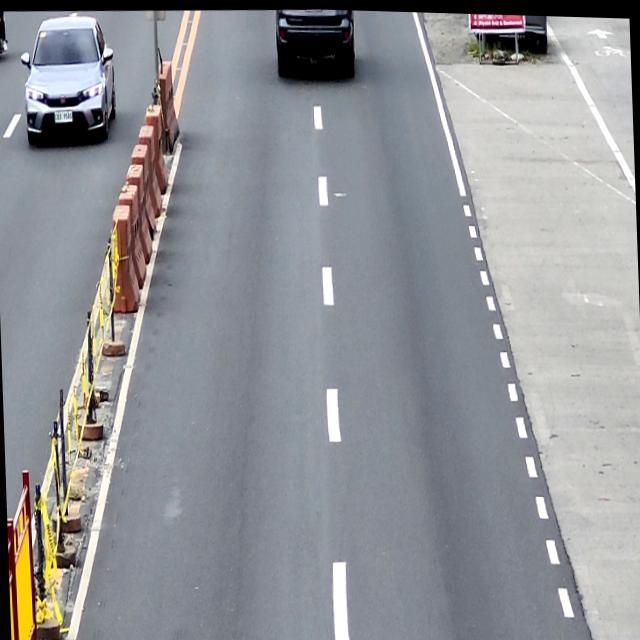Car: (19, 14, 118, 146), (274, 6, 357, 78)
License-Plate: (53, 109, 73, 123)
